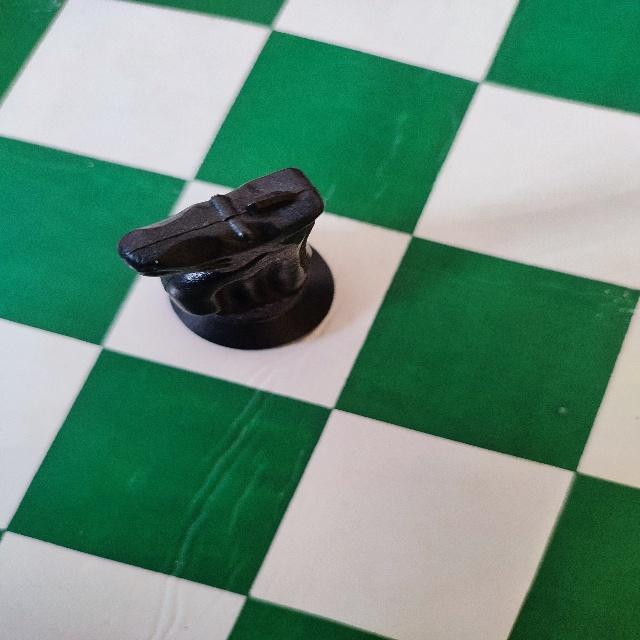Knight: (111, 164, 340, 355)
